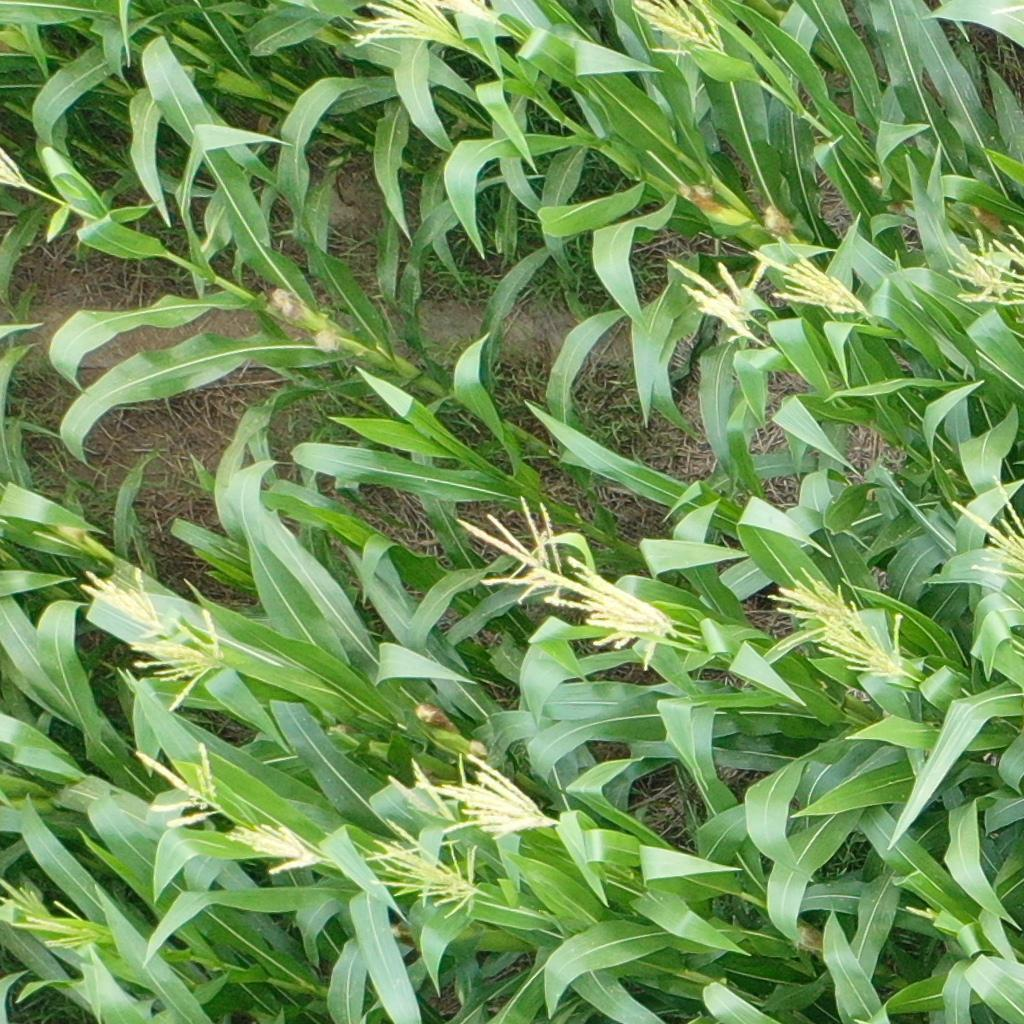Tassel: (536, 555, 698, 672), (363, 817, 492, 922), (451, 494, 568, 604), (432, 754, 562, 841), (127, 608, 226, 713), (752, 244, 869, 319), (761, 566, 864, 650), (949, 468, 1024, 580), (133, 741, 224, 830), (813, 607, 910, 684), (386, 751, 475, 830), (668, 252, 769, 319), (78, 566, 168, 640), (351, 1, 468, 54), (224, 822, 326, 875), (631, 1, 726, 56), (10, 898, 107, 951), (681, 285, 760, 347), (947, 226, 1004, 308), (976, 226, 1024, 305), (1, 876, 63, 933), (426, 1, 502, 26), (1, 147, 29, 191), (903, 901, 936, 919)
